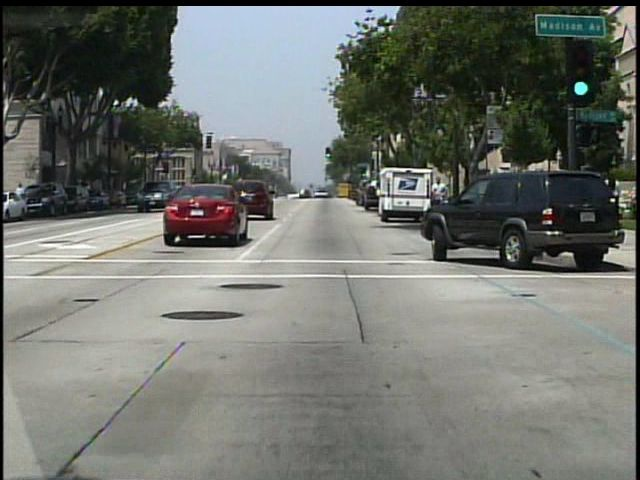person: (428, 174, 449, 222), (351, 181, 366, 210), (16, 181, 27, 209)
